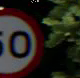Speed limit: (0, 5, 46, 74)
